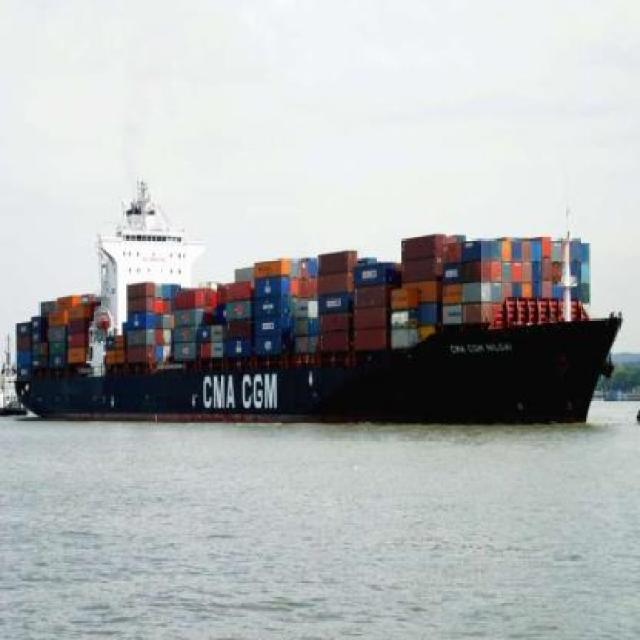ship: (15, 176, 623, 418)
